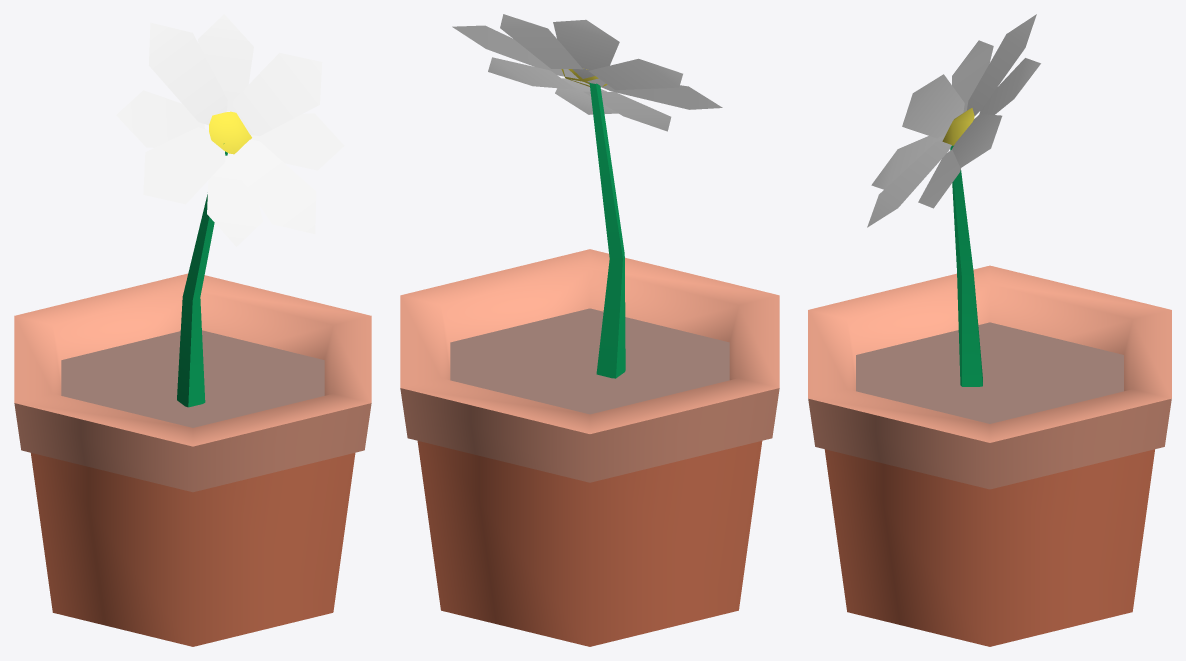
File: flower_018.glb
3 renders of one model, left to right at view 1: azimuth 30°, elevation 25°; view 2: azimuth 150°, elevation 25°; view 3: azimuth 270°, elevation 25°, orthographic. The views are drawn at different scales.
Parts seen in each view (by area): view 1: flower_018; view 2: flower_018; view 3: flower_018.
Part boxes in pixels (x1,y1,x2,y2): flower_018: [14, 14, 371, 646]; flower_018: [400, 14, 779, 646]; flower_018: [808, 14, 1171, 646].
Size of the model in its own units: 0.1329 by 0.1933 by 0.1151.
Materials: 1 (1 with a texture image).
